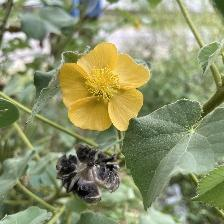indian mallow: (59, 44, 154, 134)
